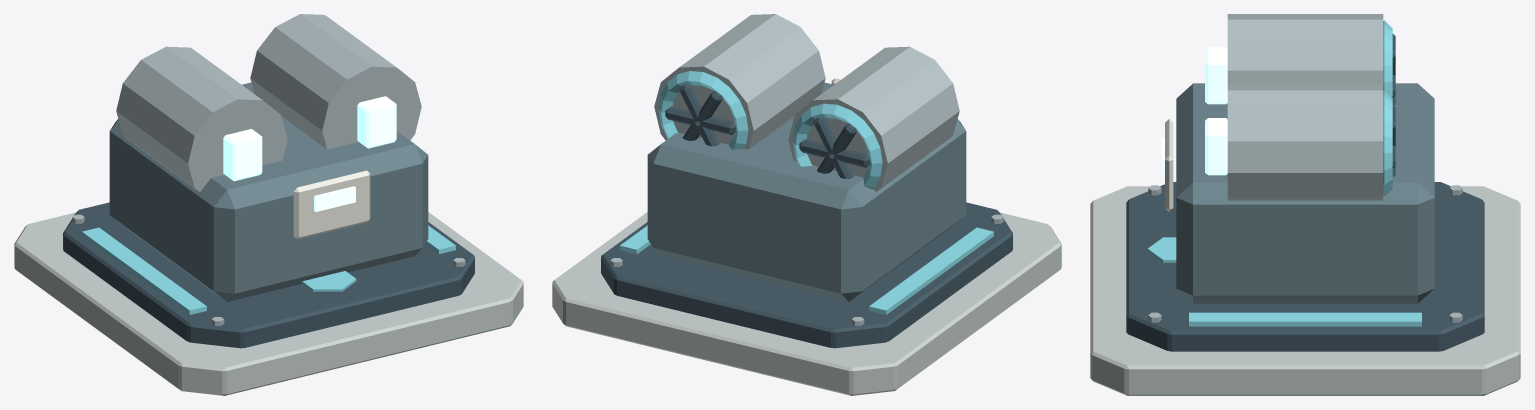
File: generator.glb
3 renders of one model, left to right at view 1: azimuth 30°, elevation 25°; view 2: azimuth 150°, elevation 25°; view 3: azimuth 270°, elevation 25°, orthographic. The views are drawn at different scales.
Parts seen in each view (by area): view 1: housing, foundation, mount, rotor_body, rotor_body.001, panel, asset_generator__FP_Team, rotor_terminal.001, rotor_terminal, Hexagon, readout; view 2: housing, foundation, mount, rotor_body, rotor_body.001, asset_generator__FP_Team, coil, coil.001, rotor_-1__FP_Dark, rotor_1__FP_Dark; view 3: housing, foundation, mount, rotor_body.001, rotor_body, asset_generator__FP_Team, rotor_terminal, rotor_terminal.001, coil.001, panel, coil, Hexagon (+1 smaller).
Part boxes in pixels (x1,y1,x2,y2): housing: (109, 82, 428, 301); foundation: (14, 212, 523, 395); mount: (63, 202, 474, 348); rotor_body: (116, 46, 287, 191); rotor_body.001: (250, 14, 421, 149); panel: (293, 170, 370, 239); asset_generator__FP_Team: (82, 225, 455, 314); rotor_terminal.001: (357, 96, 396, 148); rotor_terminal: (223, 129, 262, 181); Hexagon: (301, 271, 356, 291); readout: (314, 186, 355, 211); housing: (647, 82, 966, 301); foundation: (552, 212, 1061, 395); mount: (601, 202, 1012, 348); rotor_body: (788, 46, 959, 191); rotor_body.001: (654, 14, 825, 149); asset_generator__FP_Team: (620, 225, 993, 314); coil: (792, 103, 882, 189); coil.001: (658, 71, 748, 149); rotor_-1__FP_Dark: (799, 117, 870, 178); rotor_1__FP_Dark: (665, 84, 736, 146); housing: (1176, 83, 1434, 303); foundation: (1090, 186, 1520, 395); mount: (1126, 182, 1484, 351); rotor_body.001: (1227, 84, 1383, 200); rotor_body: (1227, 14, 1383, 84); asset_generator__FP_Team: (1189, 312, 1421, 326); rotor_terminal: (1205, 47, 1227, 104); rotor_terminal.001: (1205, 118, 1227, 175); coil.001: (1383, 91, 1392, 196); panel: (1165, 119, 1173, 211); coil: (1383, 20, 1392, 98); Hexagon: (1147, 237, 1176, 262).
Bounding box in the file's own units: 1.8 × 1.16 × 1.8.
